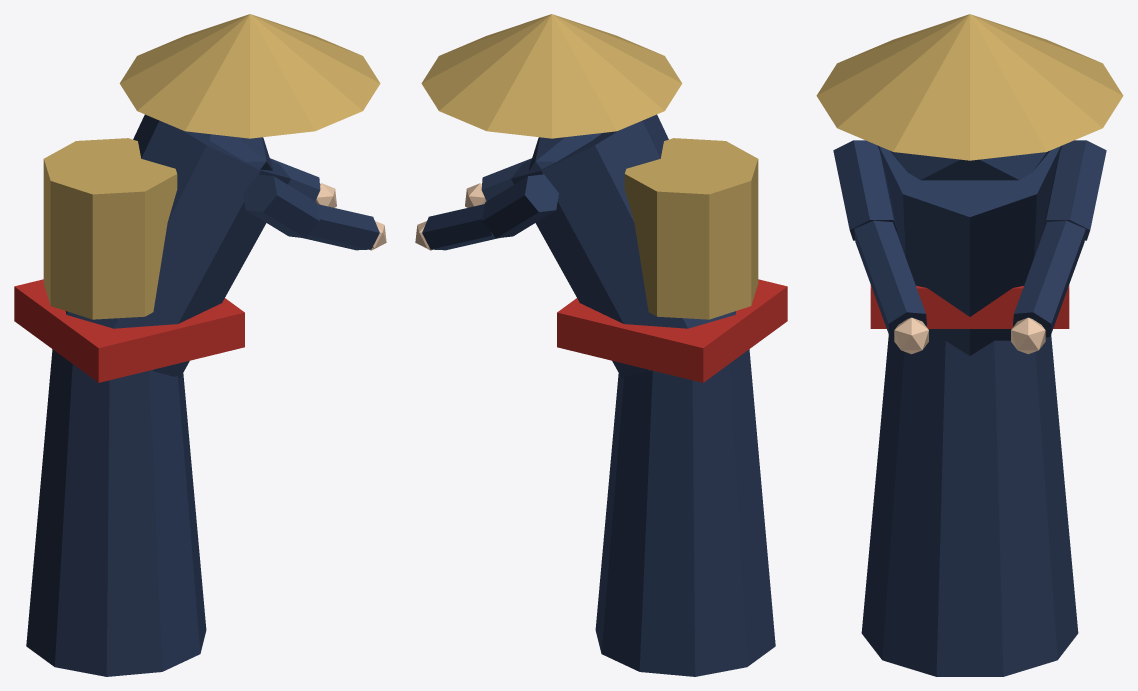
Rendered from teplockare.glb.
The picture shows the model from 3 angles, left to right: view 1: azimuth 30°, elevation 25°; view 2: azimuth 150°, elevation 25°; view 3: azimuth 270°, elevation 25°; orthographic projection. The views are drawn at different scales.
Parts seen in each view (by area): view 1: teplockare; view 2: teplockare; view 3: teplockare.
Part boxes in pixels (box(x1,y1,x2,y2)): teplockare: box(14, 14, 386, 676); teplockare: box(415, 14, 787, 676); teplockare: box(816, 14, 1123, 676).
Size of the model in its own units: 0.9707 by 1.71 by 0.68.
